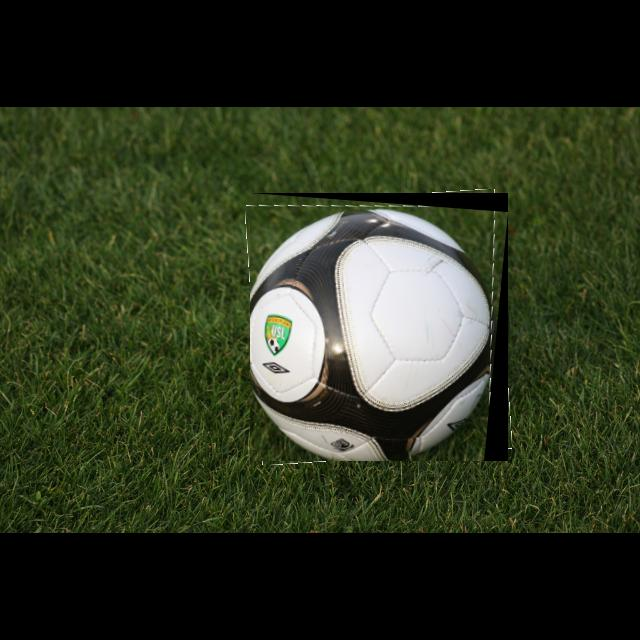Football: (250, 193, 508, 461)
